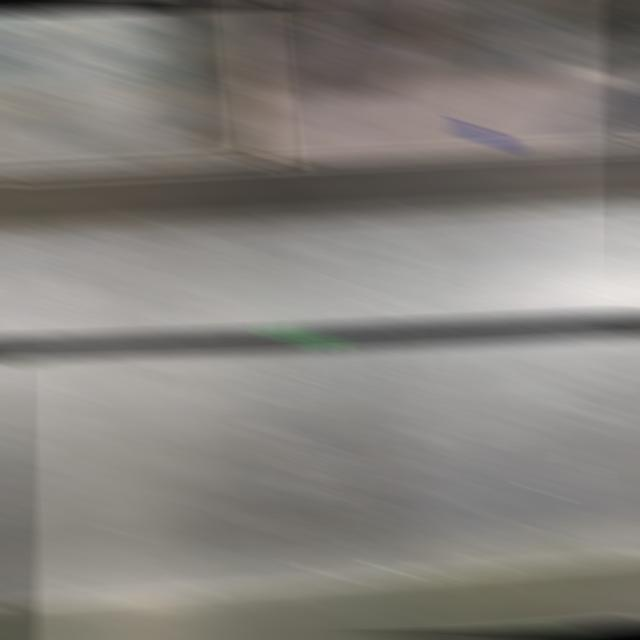green: (269, 325, 336, 348)
